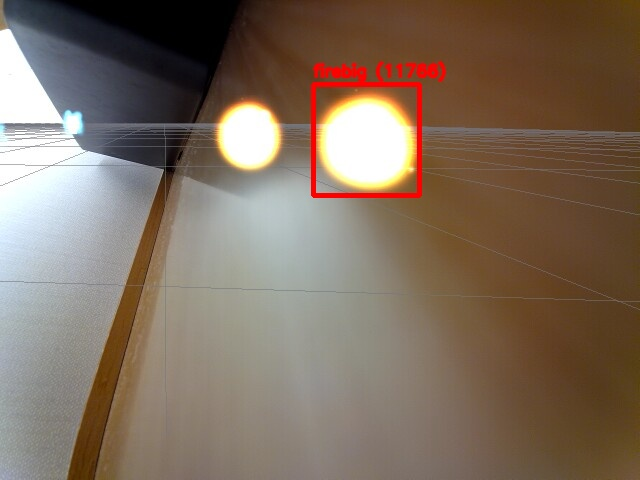firebig: (313, 84, 419, 195)
